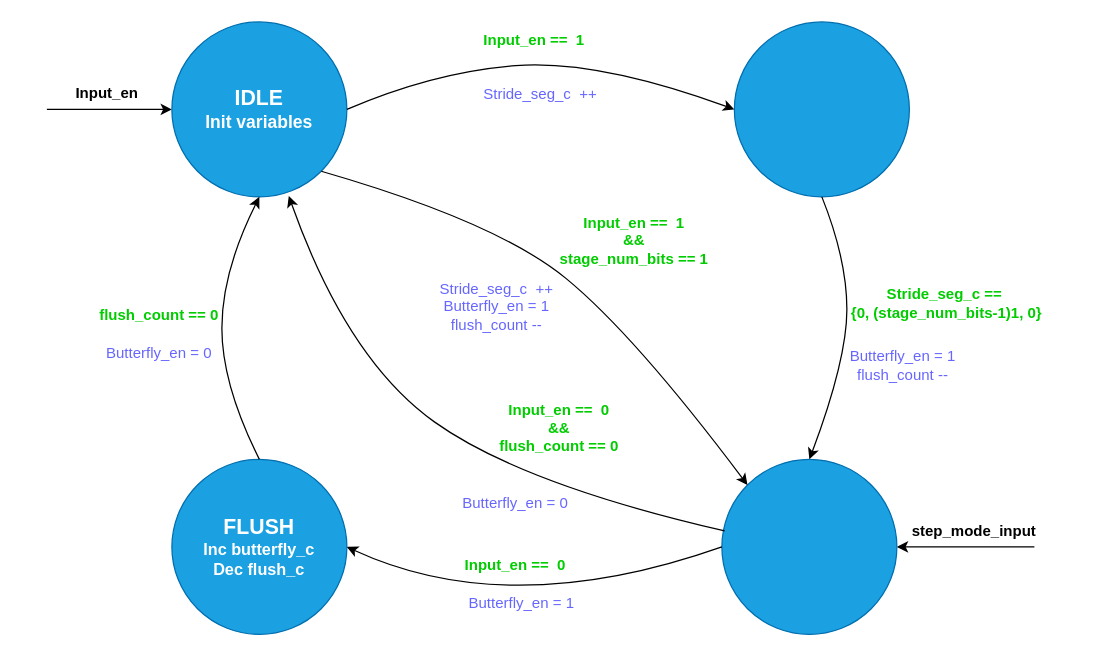
Some shapes in this 1093 by 656 pixel diagram are drawn without their labels. Here are the shapes that lost their labels. From the top down, the box of each, then its label:
(733, 21, 909, 197): FILL Inc stride_seg_c
(721, 458, 897, 634): PROCESSING
